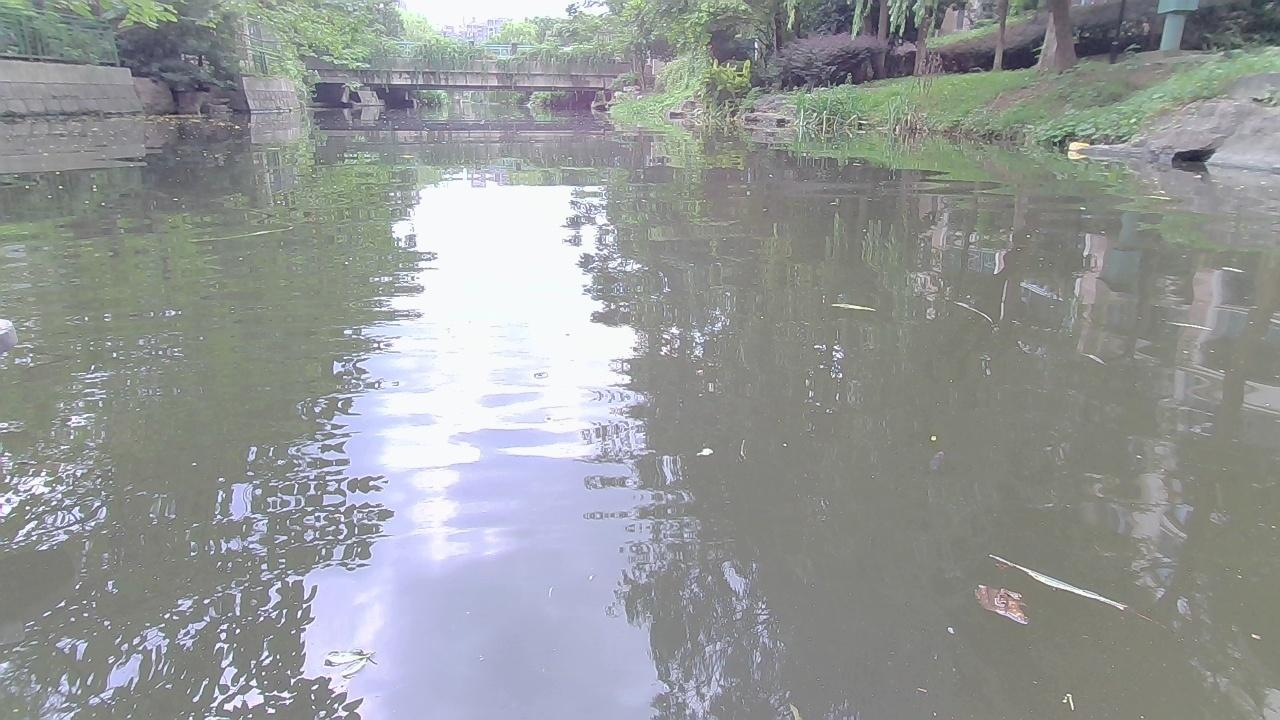bottle: (1064, 141, 1091, 155)
